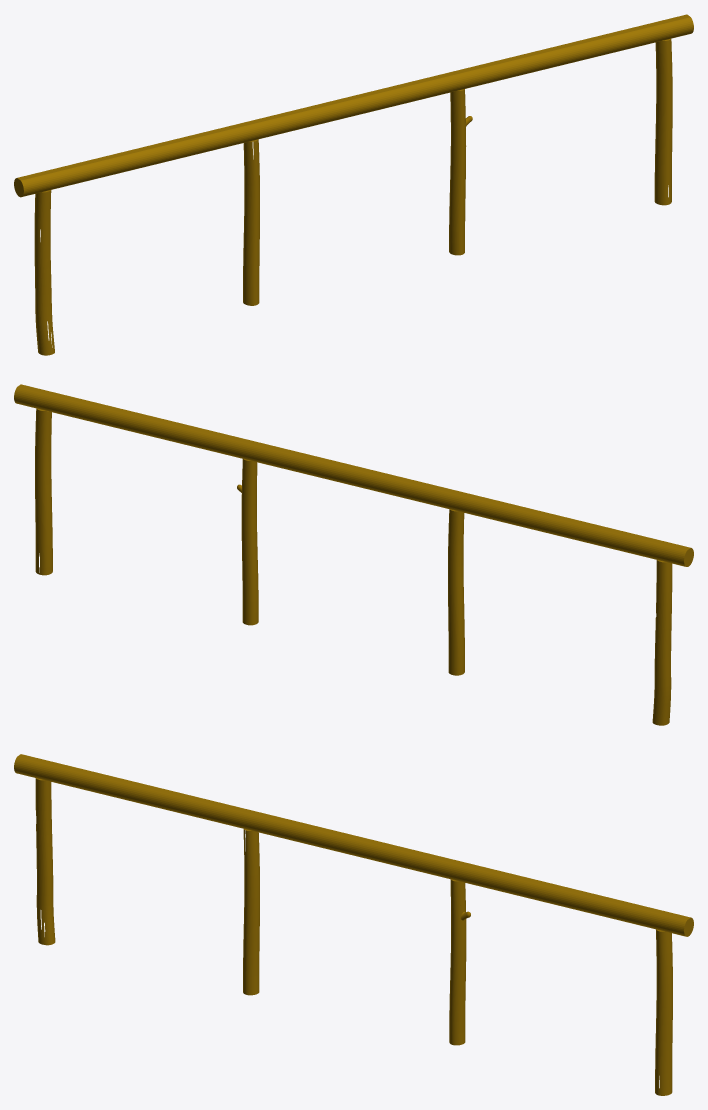
File: 2_decorative.glb
3 views of the same model, one above another, from view 1: azimuth 30°, elevation 25°; view 2: azimuth 150°, elevation 25°; view 3: azimuth 330°, elevation 25° (orthographic).
Parts seen in each view (by area): view 1: skp8C19; view 2: skp8C19; view 3: skp8C19.
Part boxes in pixels (x1,y1,x2,y2): skp8C19: (14,14,693,355); skp8C19: (14,384,693,725); skp8C19: (14,754,693,1095).
Size of the model in its own units: 11.9 by 3.05 by 0.3047.
